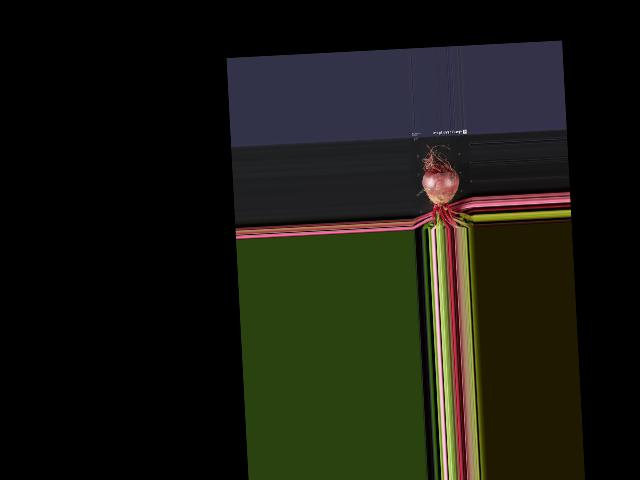beet: (419, 139, 474, 229)
